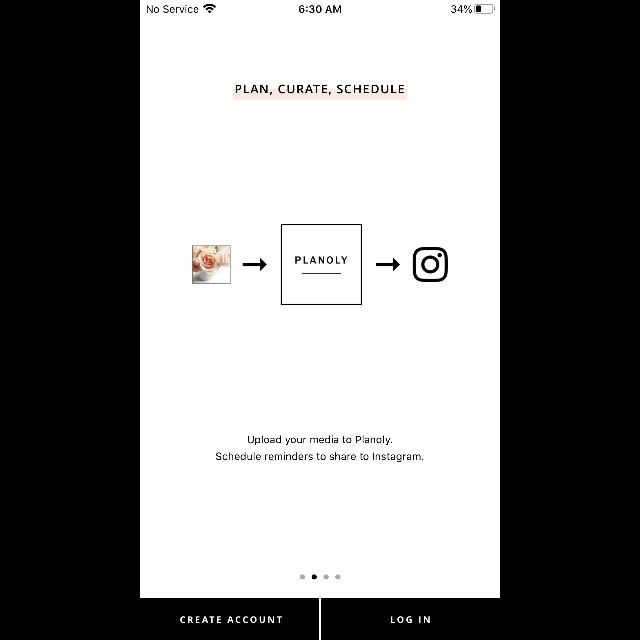icon: (376, 258, 400, 270), (243, 258, 267, 270)
image: (280, 223, 362, 304), (192, 246, 230, 284), (412, 246, 448, 282)
pageindicator: (300, 575, 340, 579)
text: (216, 452, 424, 462), (236, 85, 404, 95), (248, 436, 392, 444), (296, 256, 346, 264)
textbutton: (321, 598, 499, 640), (141, 598, 319, 640)
uppertaskbar: (140, 0, 500, 14)
